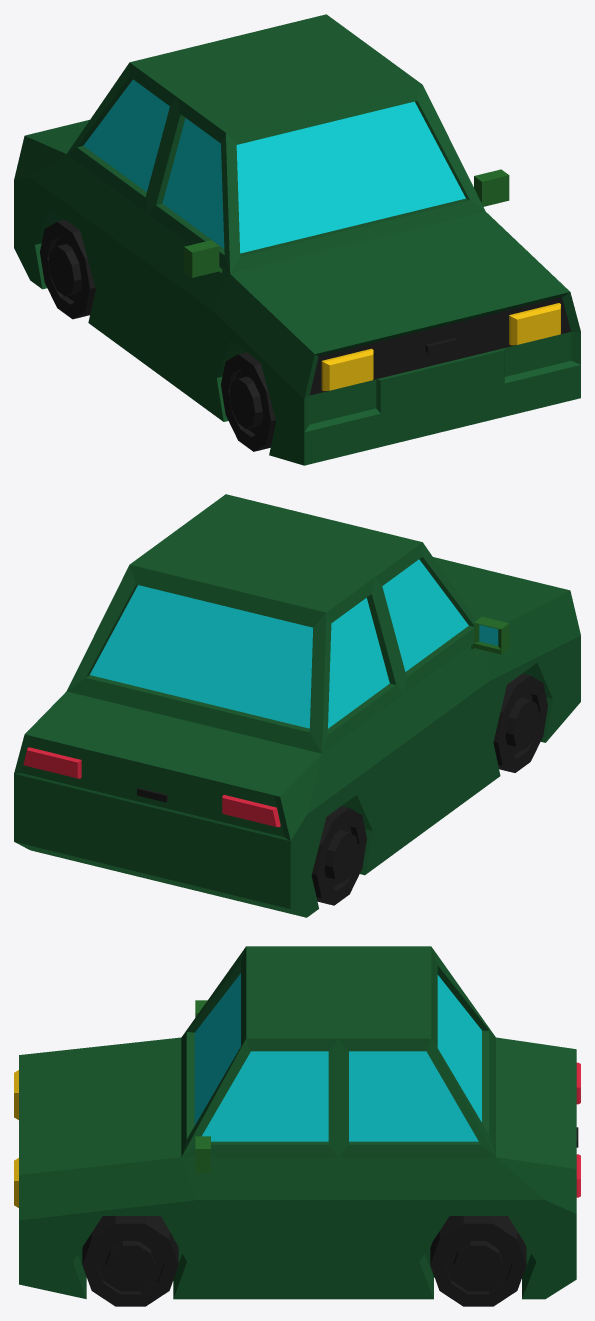
File: sedan.glb
3 renders of one model, top to bottom at view 1: azimuth 30°, elevation 25°; view 2: azimuth 150°, elevation 25°; view 3: azimuth 270°, elevation 25°, orthographic. The views are drawn at different scales.
Visible parts, largest first — view 1: sedan; view 2: sedan; view 3: sedan.
Part boxes in pixels (x1,y1,x2,y2): sedan: (14,14,580,465); sedan: (14,494,580,917); sedan: (14,946,580,1306).
Bounding box in the file's own units: 4.42 × 3.46 × 7.12.
1 material, 1 textured.
